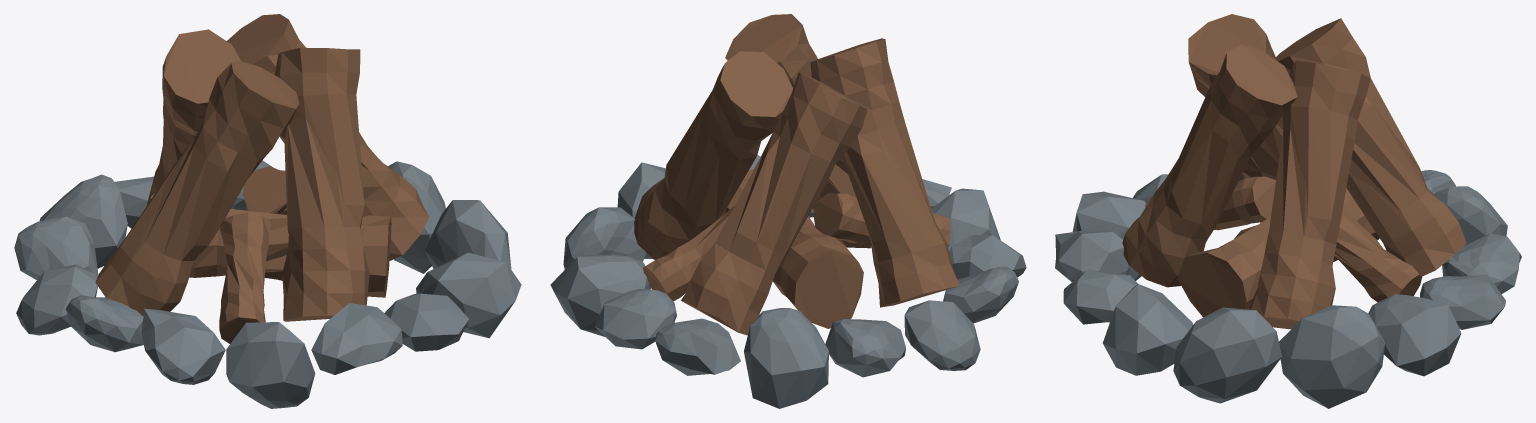
The model's file is AC_Fogueira.fbx.
3 views of the same model, side by side, from view 1: azimuth 30°, elevation 25°; view 2: azimuth 150°, elevation 25°; view 3: azimuth 270°, elevation 25° (orthographic). The views are drawn at different scales.
Visible parts, largest first — view 1: Cylinder.004; view 2: Cylinder.004; view 3: Cylinder.004.
Boxes of the visible parts, bbox=[...] form: Cylinder.004: bbox=[14, 14, 521, 408]; Cylinder.004: bbox=[550, 14, 1026, 408]; Cylinder.004: bbox=[1055, 14, 1521, 408].
Bounding box in the file's own units: 456 × 305 × 453.
